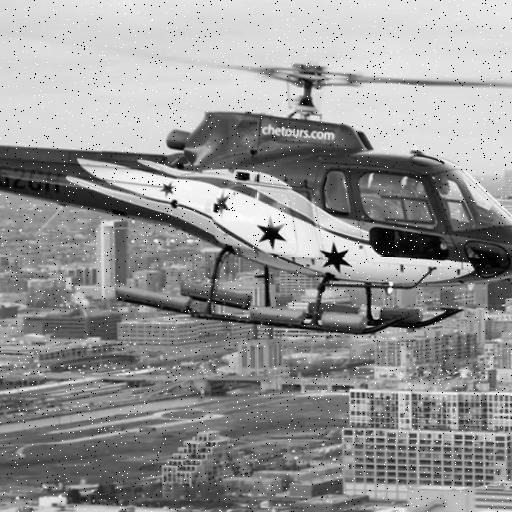helicopter: (5, 22, 512, 347)
